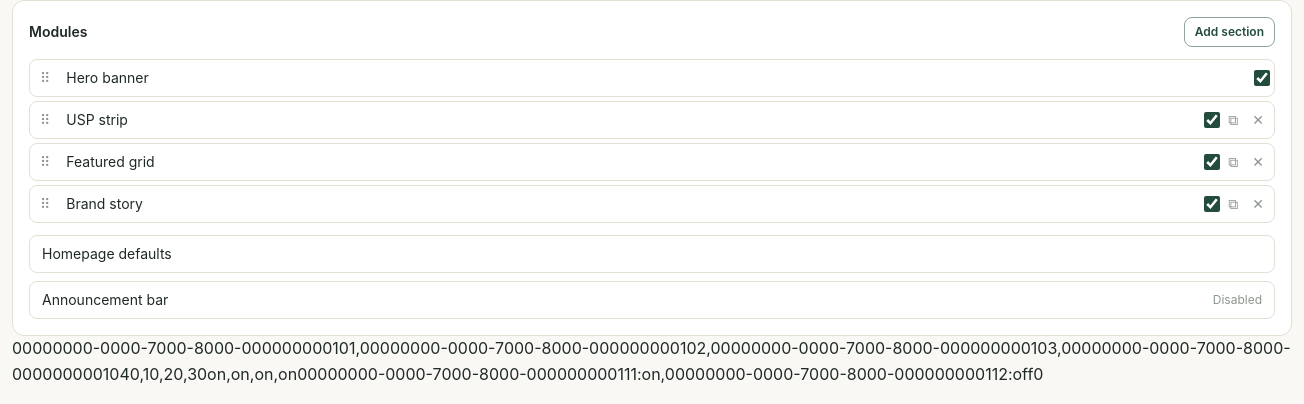
Test case: ModuleTree › restores the last removed section at its index from the undo affordance
Expected: the button "Undo delete" is not shown
Click the button named "Delete section" at (1258, 162), box [1246,148,1270,176]
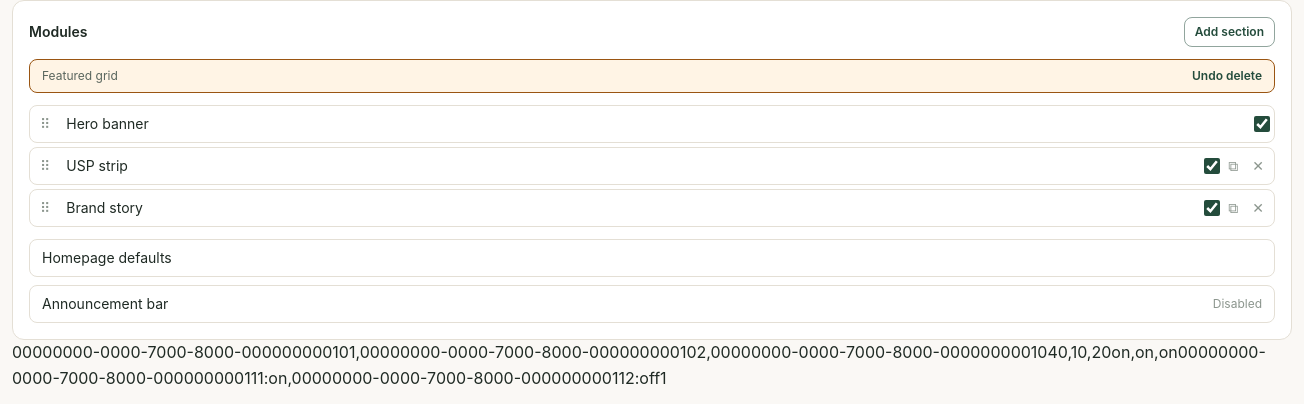
Click the button "Undo delete" at (1227, 76), box [1192,68,1262,84]
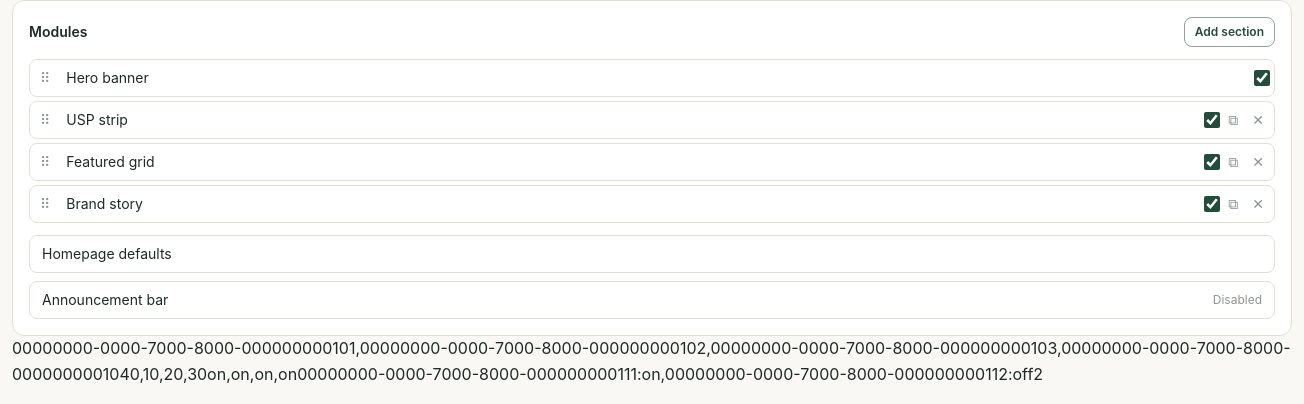
Result: the button "Undo delete" is gone
